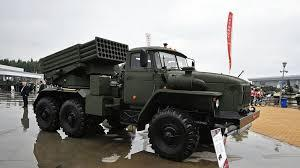MIL_SAM_TEL: (31, 38, 253, 160)
